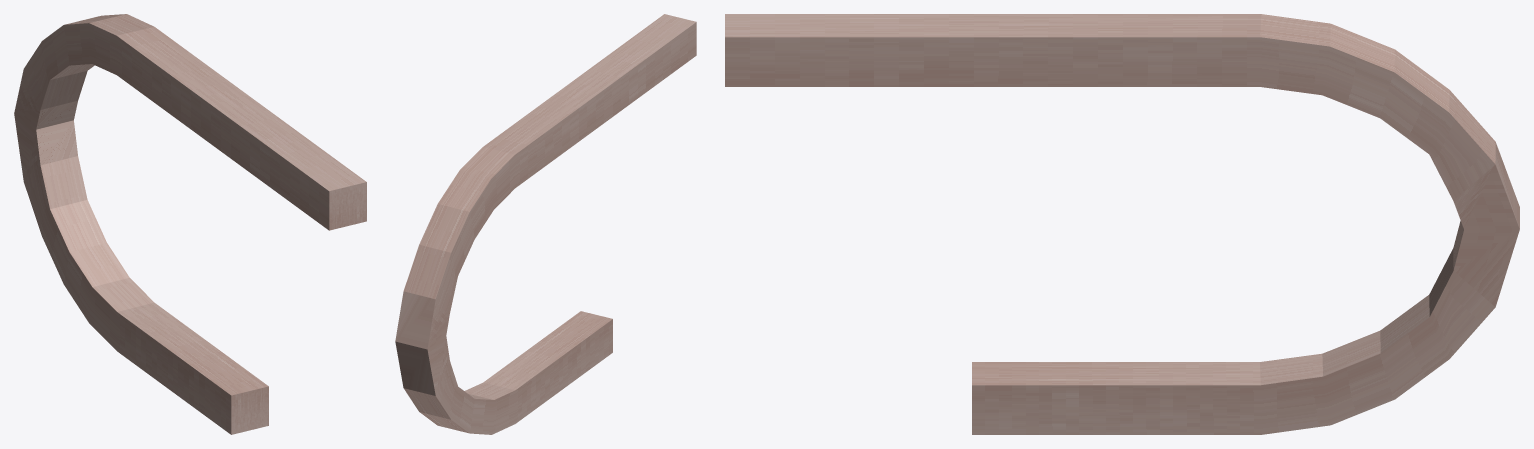
File: LightPole_2.obj
3 renders of one model, left to right at view 1: azimuth 30°, elevation 25°; view 2: azimuth 150°, elevation 25°; view 3: azimuth 270°, elevation 25°, orthographic. The views are drawn at different scales.
Size of the model in its own units: 0.125 by 1 by 1.81.
